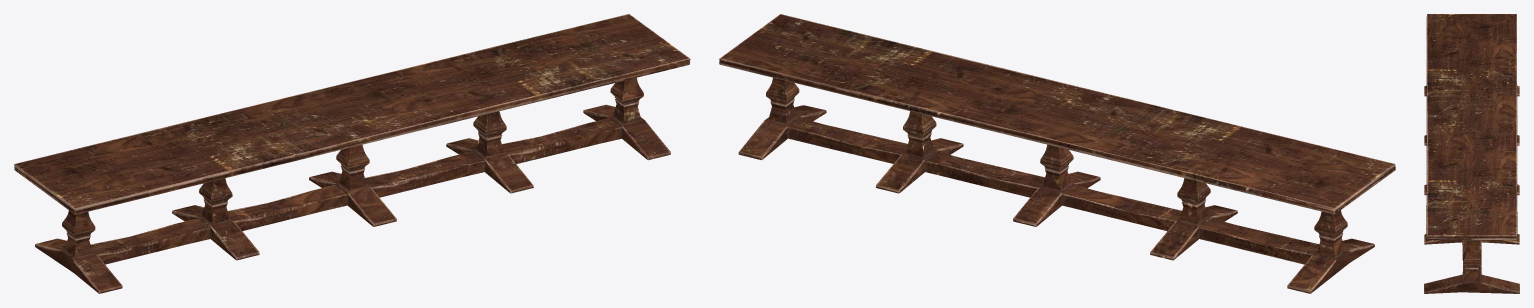
The model's file is house-table.lo.glb.
3 renders of one model, left to right at view 1: azimuth 30°, elevation 25°; view 2: azimuth 150°, elevation 25°; view 3: azimuth 270°, elevation 25°, orthographic. The views are drawn at different scales.
Parts seen in each view (by area): view 1: table; view 2: table; view 3: table.
Part boxes in pixels (box(x1,y1,x2,y2)): table: box(14, 14, 690, 293); table: box(719, 14, 1395, 293); table: box(1424, 14, 1519, 293).
Bounding box in the file's own units: 7.5 × 1.04 × 1.37.
1 material, 1 textured.
